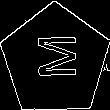M_W: (31, 37, 80, 84)
